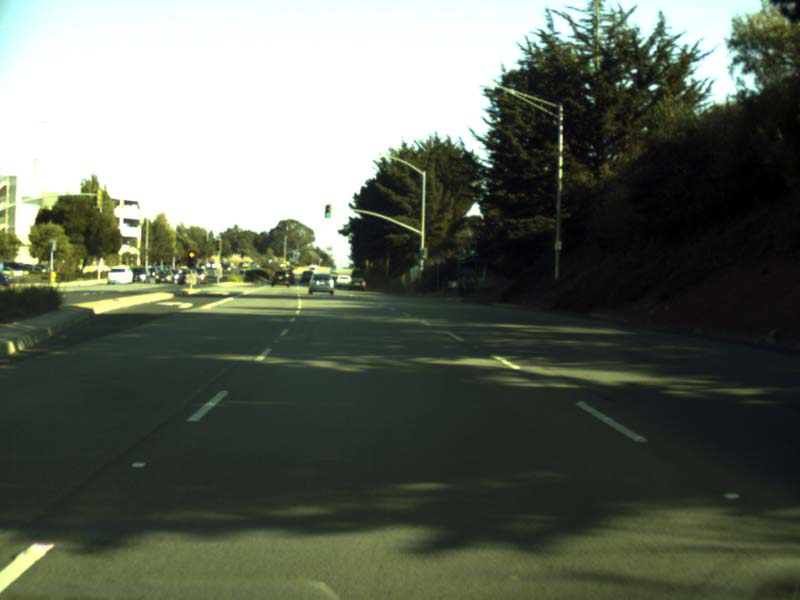Green: (468, 241, 477, 255), (325, 204, 330, 217)
Red: (187, 249, 195, 268)
